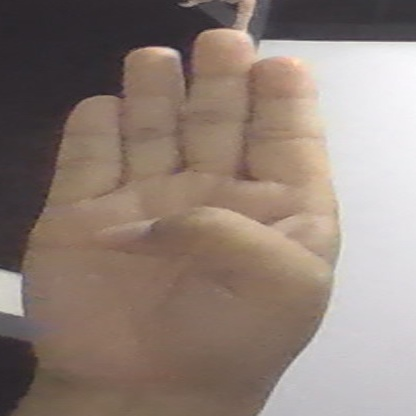B: (23, 25, 339, 399)
